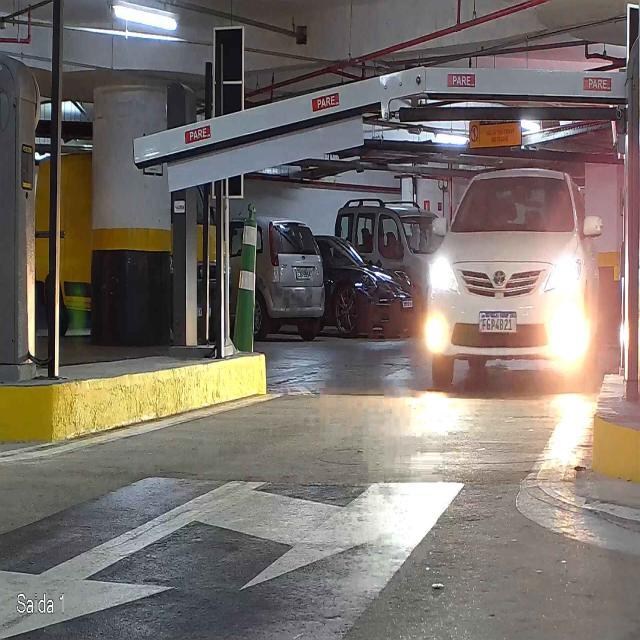mercosul_plate: (476, 310, 520, 336)
